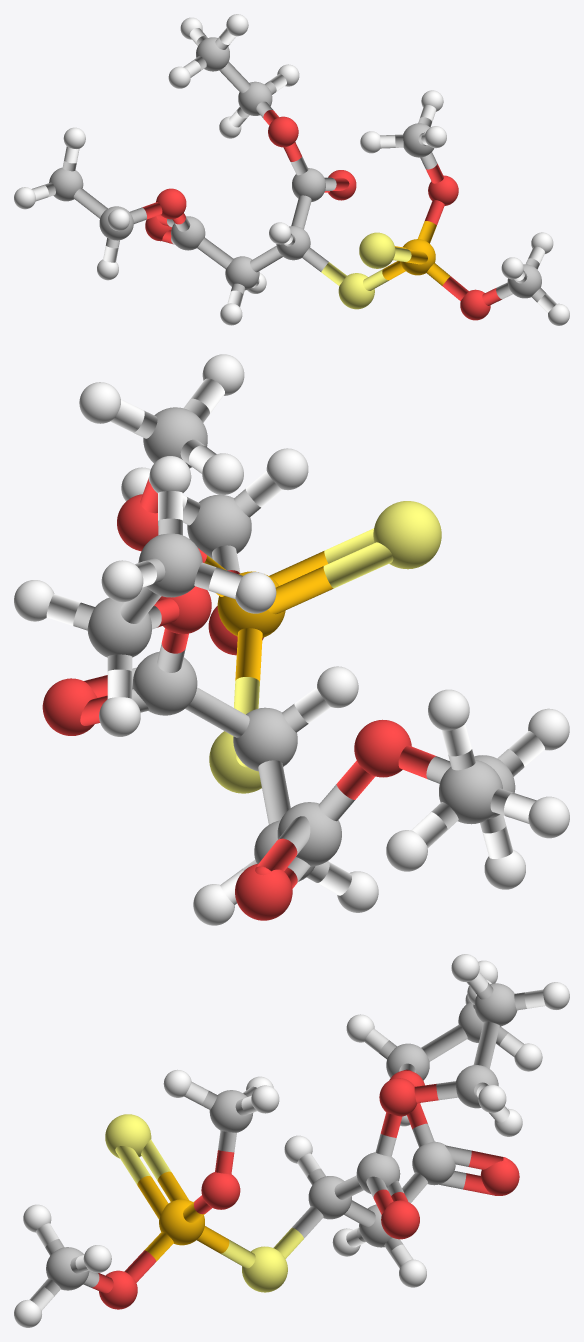
Rendered from melation2.gltf.
The picture shows the model from 3 angles, top to bottom: view 1: azimuth 30°, elevation 25°; view 2: azimuth 150°, elevation 25°; view 3: azimuth 270°, elevation 25°; orthographic projection. The views are drawn at different scales.
Visible parts, largest first — view 1: malation; view 2: malation; view 3: malation.
Boxes of the visible parts, x1=… form: malation: x1=14, y1=14, x2=569, y2=325; malation: x1=14, y1=354, x2=569, y2=925; malation: x1=14, y1=954, x2=569, y2=1327.
Size of the model in its own units: 10.15 by 6.59 by 9.98.
